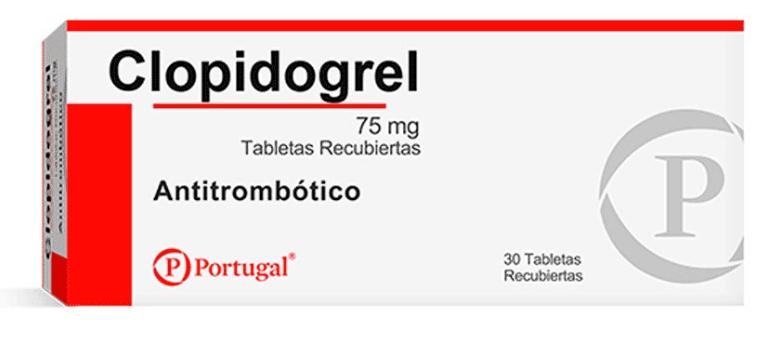brand: (196, 248, 290, 286)
extra_detail: (147, 175, 364, 211)
net_weight: (501, 248, 588, 288)
product_name: (109, 38, 425, 103)
